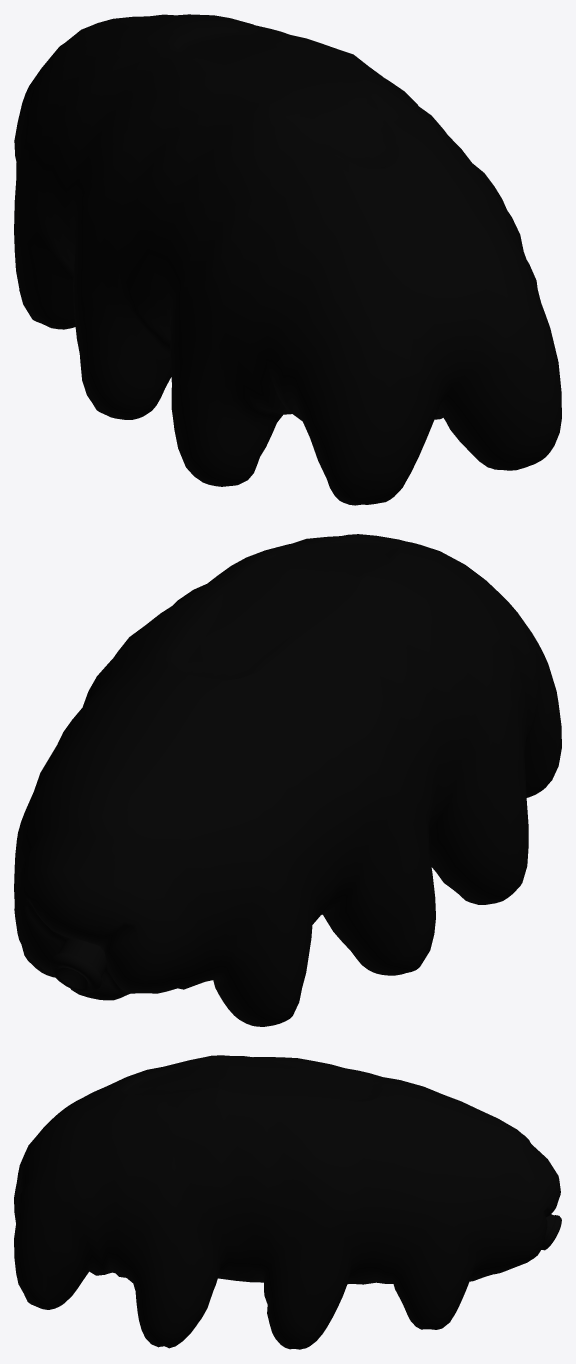
File: Pfb_Water_bear__2.fbx
The picture shows the model from 3 angles, top to bottom: view 1: azimuth 30°, elevation 25°; view 2: azimuth 150°, elevation 25°; view 3: azimuth 270°, elevation 25°; orthographic projection. The views are drawn at different scales.
Visible parts, largest first — view 1: SkillMachine; view 2: SkillMachine; view 3: SkillMachine.
Boxes of the visible parts, left/top/right/bottom form: SkillMachine: left=14, top=14, right=561, bottom=505; SkillMachine: left=14, top=534, right=561, bottom=1026; SkillMachine: left=14, top=1055, right=561, bottom=1349.
Size of the model in its own units: 7.31 by 6.74 by 14.53.
1 material, 1 textured.
